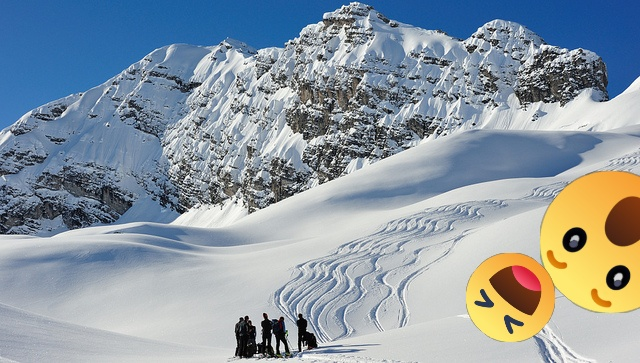haha: (466, 253, 555, 342)
wow: (540, 171, 640, 313)
